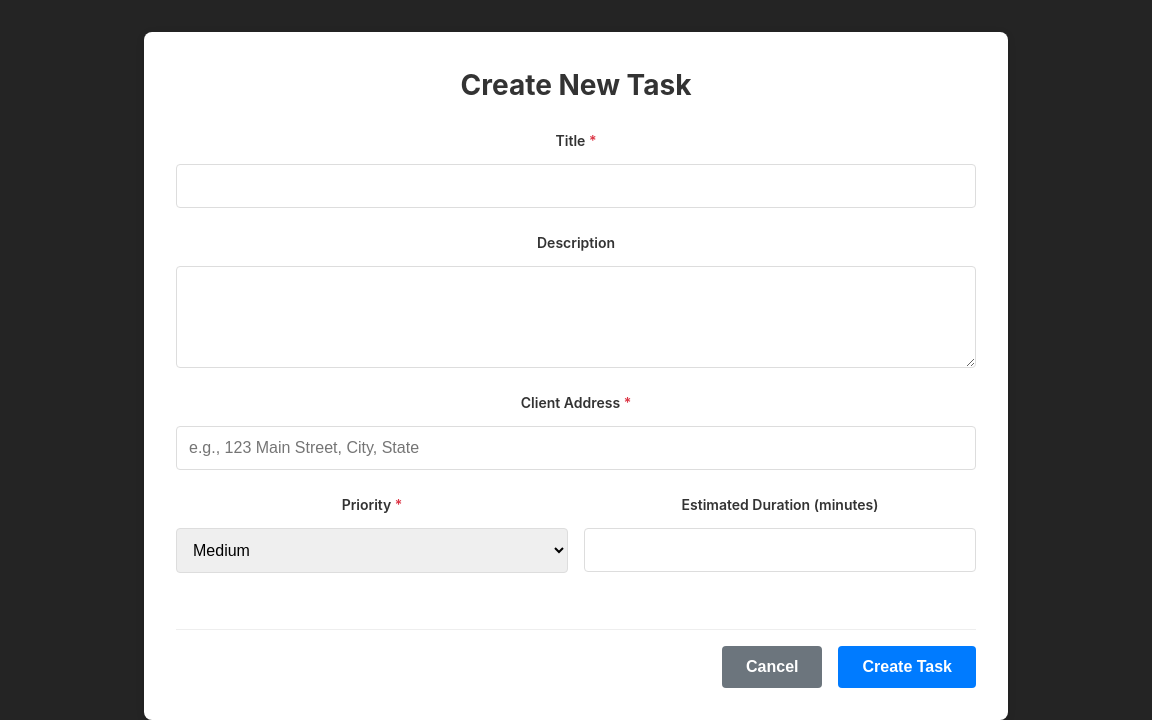
Test: TaskForm Component › should show validation error when title is too short
In the field labelled "Title *": x=576, y=186 [176, 164, 976, 208], type "Ab"
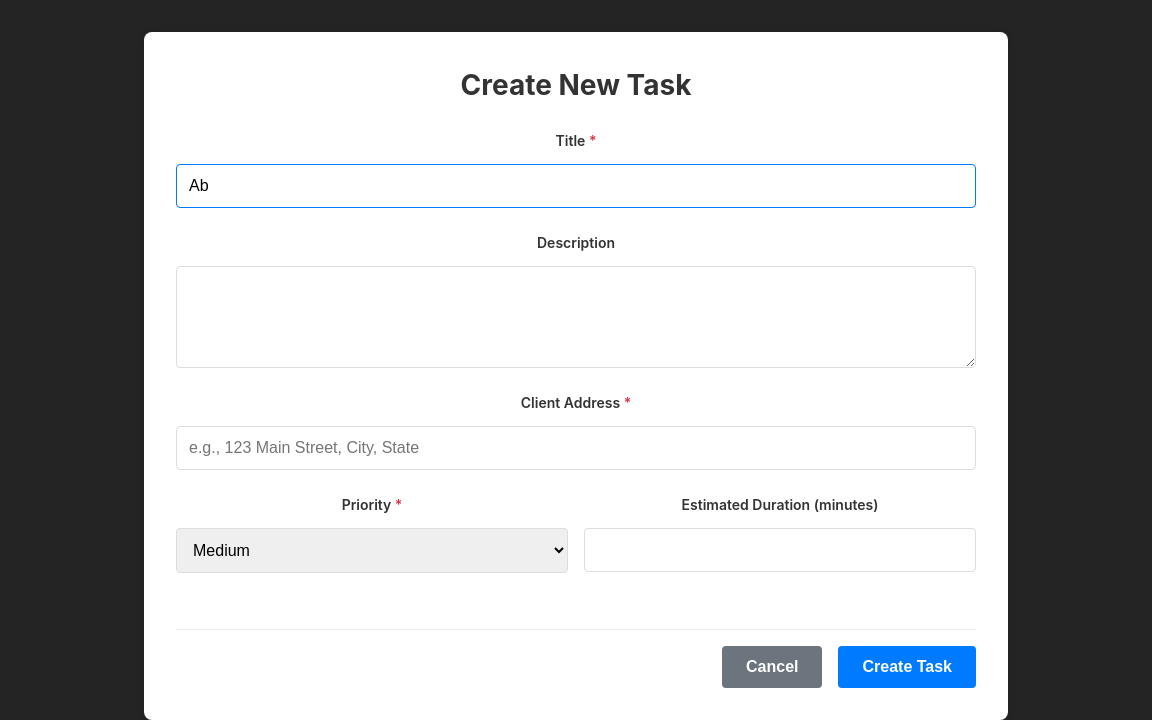
Click the button "Create Task": x=907, y=667 [838, 646, 976, 688]
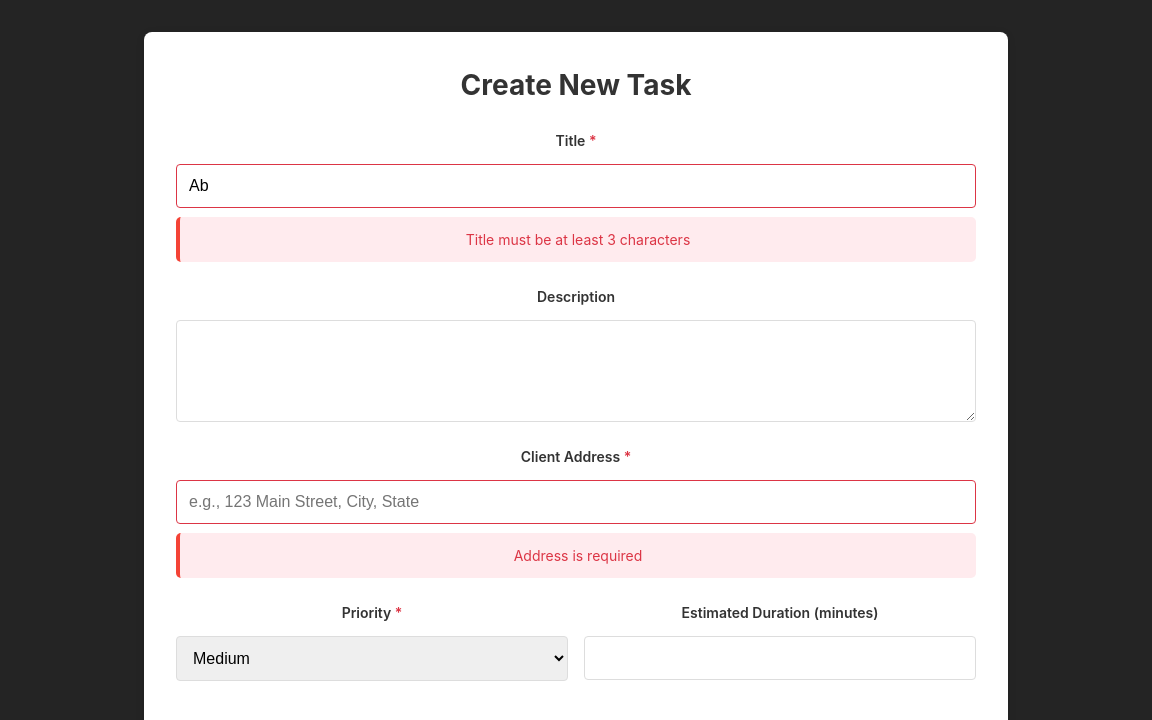
Expected: the text "Title must be at least 3 characters" is shown, [176, 217, 976, 262]
